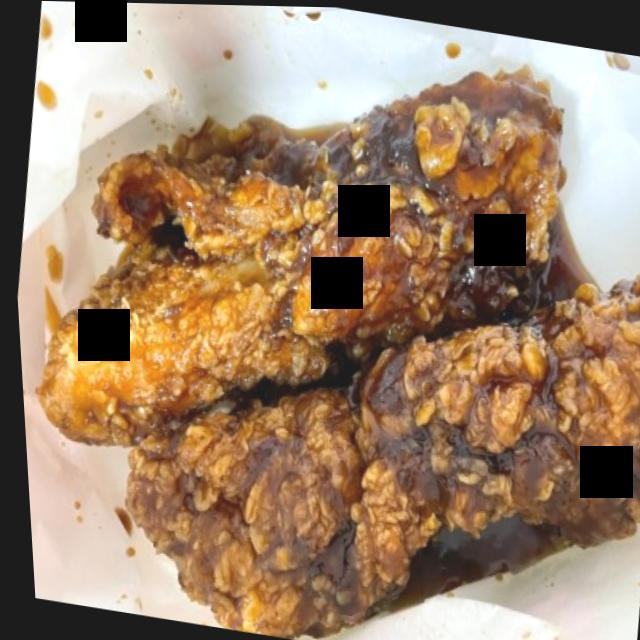Frango: (1, 20, 640, 640)
